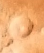crater: (4, 7, 41, 47)
